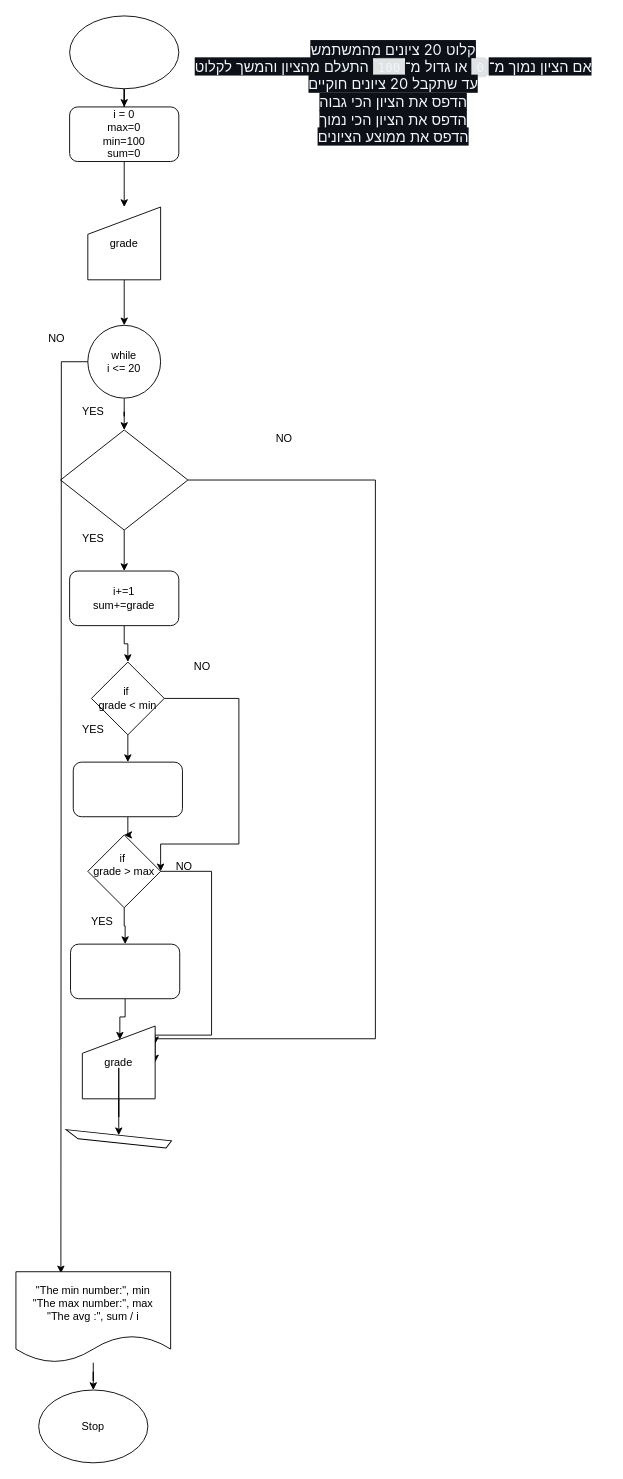
This 623x1479 diagram has some shape labels left out. Each missing label, with the centre of its shape:
if grade >= 0 and grade <= 100: [124,479]
max = grade: [125,971]
min = grade: [127,789]
Start: [124,52]
